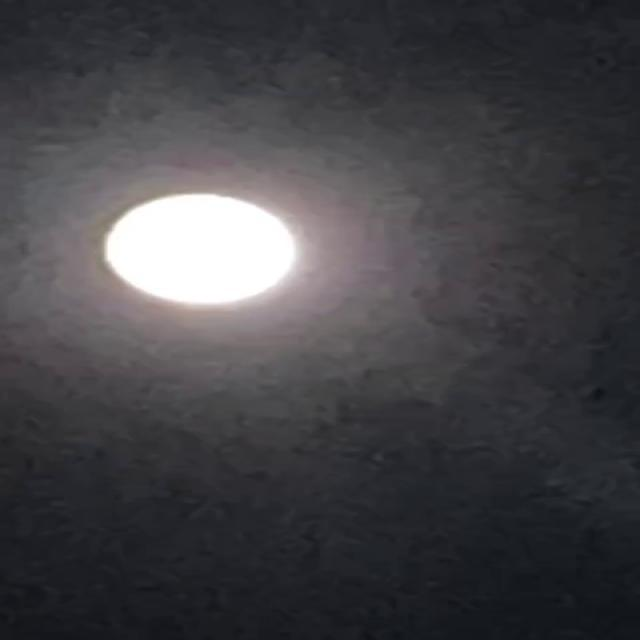moon: (103, 188, 329, 310)
